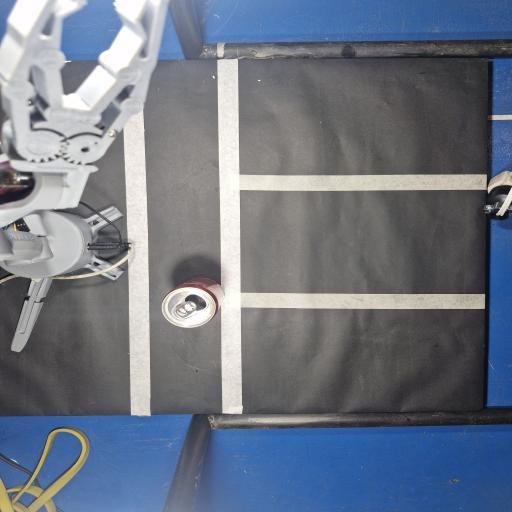lata: (161, 277, 224, 328)
